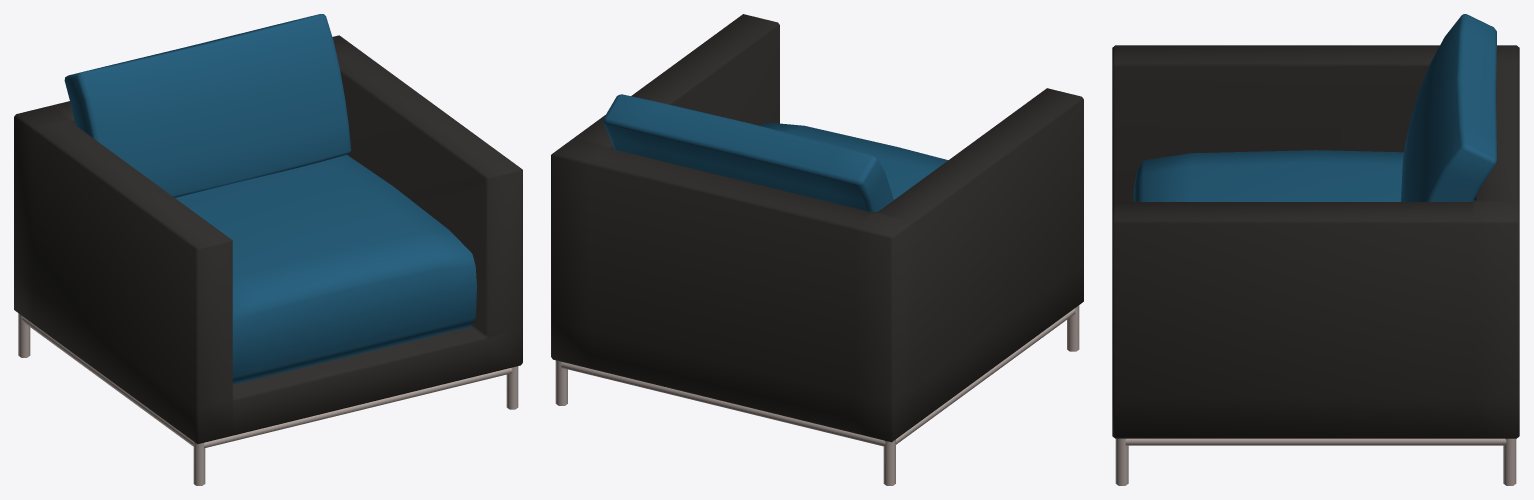
The model's file is Solo Sofa.fbx.
The picture shows the model from 3 angles, left to right: view 1: azimuth 30°, elevation 25°; view 2: azimuth 150°, elevation 25°; view 3: azimuth 270°, elevation 25°; orthographic projection. The views are drawn at different scales.
Visible parts, largest first — view 1: Solo Sofa; view 2: Solo Sofa; view 3: Solo Sofa.
Part boxes in pixels (x1,y1,x2,y2): Solo Sofa: [14, 14, 522, 485]; Solo Sofa: [551, 14, 1083, 485]; Solo Sofa: [1112, 14, 1519, 485].
Size of the model in its own units: 76.79 by 74.67 by 64.81.
